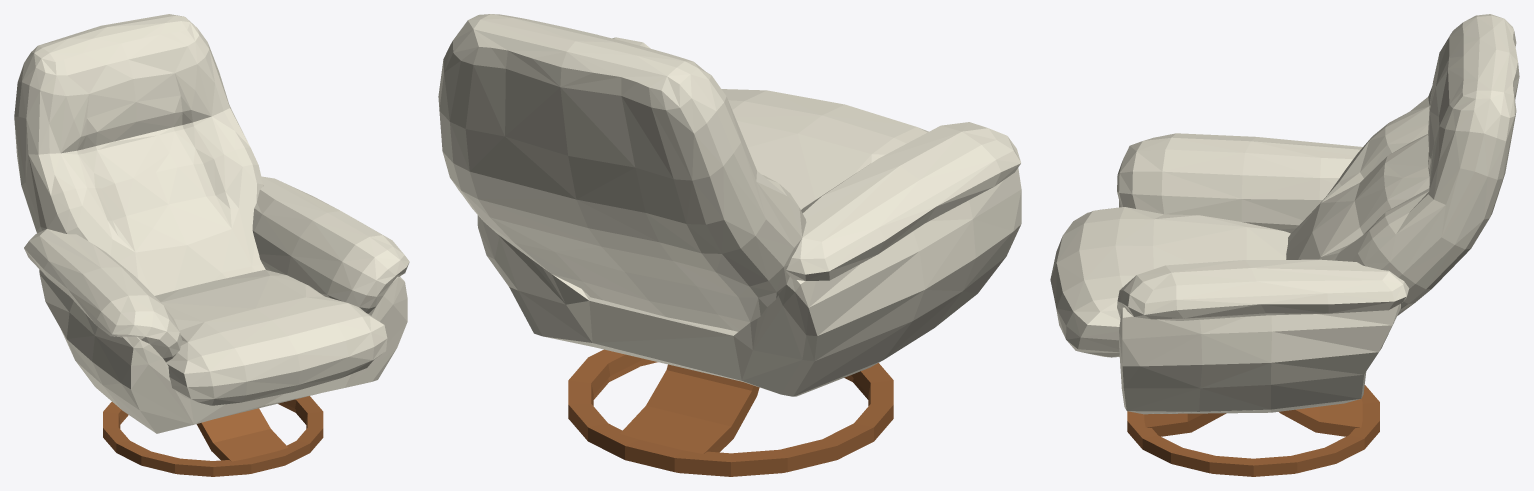
The model's file is chair-by-cmht-oculus-3llsWFtW7yM.glb.
The picture shows the model from 3 angles, left to right: view 1: azimuth 30°, elevation 25°; view 2: azimuth 150°, elevation 25°; view 3: azimuth 270°, elevation 25°; orthographic projection. The views are drawn at different scales.
Parts seen in each view (by area): view 1: Node; view 2: Node; view 3: Node.
Part boxes in pixels (left/top/right/bottom): Node: left=14, top=14, right=409, bottom=476; Node: left=438, top=14, right=1021, bottom=476; Node: left=1050, top=14, right=1519, bottom=476.
Bounding box in the file's own units: 39.33 × 41.27 × 46.56.
